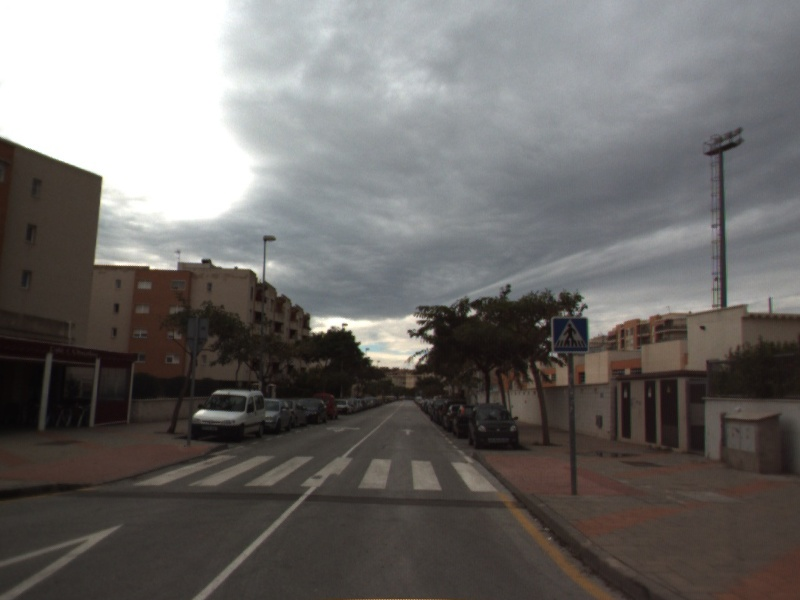STRAIGHT: (399, 426, 417, 437)
